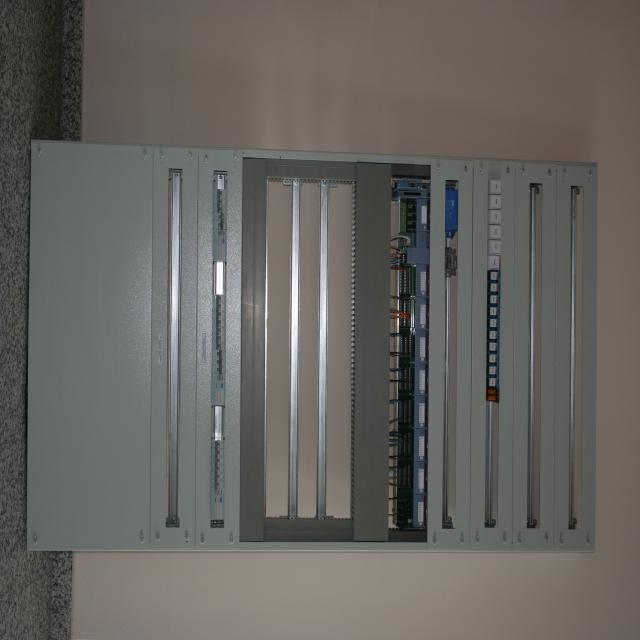Dimmer: (489, 195, 502, 210), (488, 255, 501, 270), (490, 179, 502, 194), (490, 210, 501, 225), (490, 225, 501, 240), (488, 329, 500, 342), (488, 306, 500, 318), (487, 377, 499, 389), (490, 240, 500, 254), (488, 282, 500, 293), (488, 294, 500, 305), (488, 318, 500, 329), (488, 353, 500, 364), (487, 365, 499, 376), (488, 271, 501, 281), (488, 342, 499, 353)
FI: (213, 229, 226, 262), (212, 375, 225, 407), (211, 488, 224, 520)
Leitungsschutzschalter: (213, 188, 227, 198), (213, 197, 227, 206), (213, 213, 227, 222), (212, 318, 226, 327), (211, 456, 225, 465), (212, 357, 225, 366), (213, 206, 227, 214), (213, 221, 227, 229), (212, 342, 226, 350), (211, 440, 225, 448), (211, 448, 225, 456), (212, 294, 225, 302), (212, 302, 225, 310), (212, 310, 225, 318), (212, 334, 225, 342), (212, 366, 225, 374), (211, 472, 224, 480), (212, 327, 226, 334), (212, 350, 226, 357), (210, 481, 224, 488), (210, 466, 224, 472)
SPS-System -Steuerungskomponente-: (414, 362, 426, 398), (416, 199, 427, 233), (414, 462, 425, 494), (416, 232, 426, 266), (414, 428, 424, 462), (414, 494, 424, 528), (416, 330, 426, 363), (416, 266, 426, 298), (416, 298, 426, 329), (415, 397, 425, 428)
Schaltkasten: (30, 131, 607, 560)
